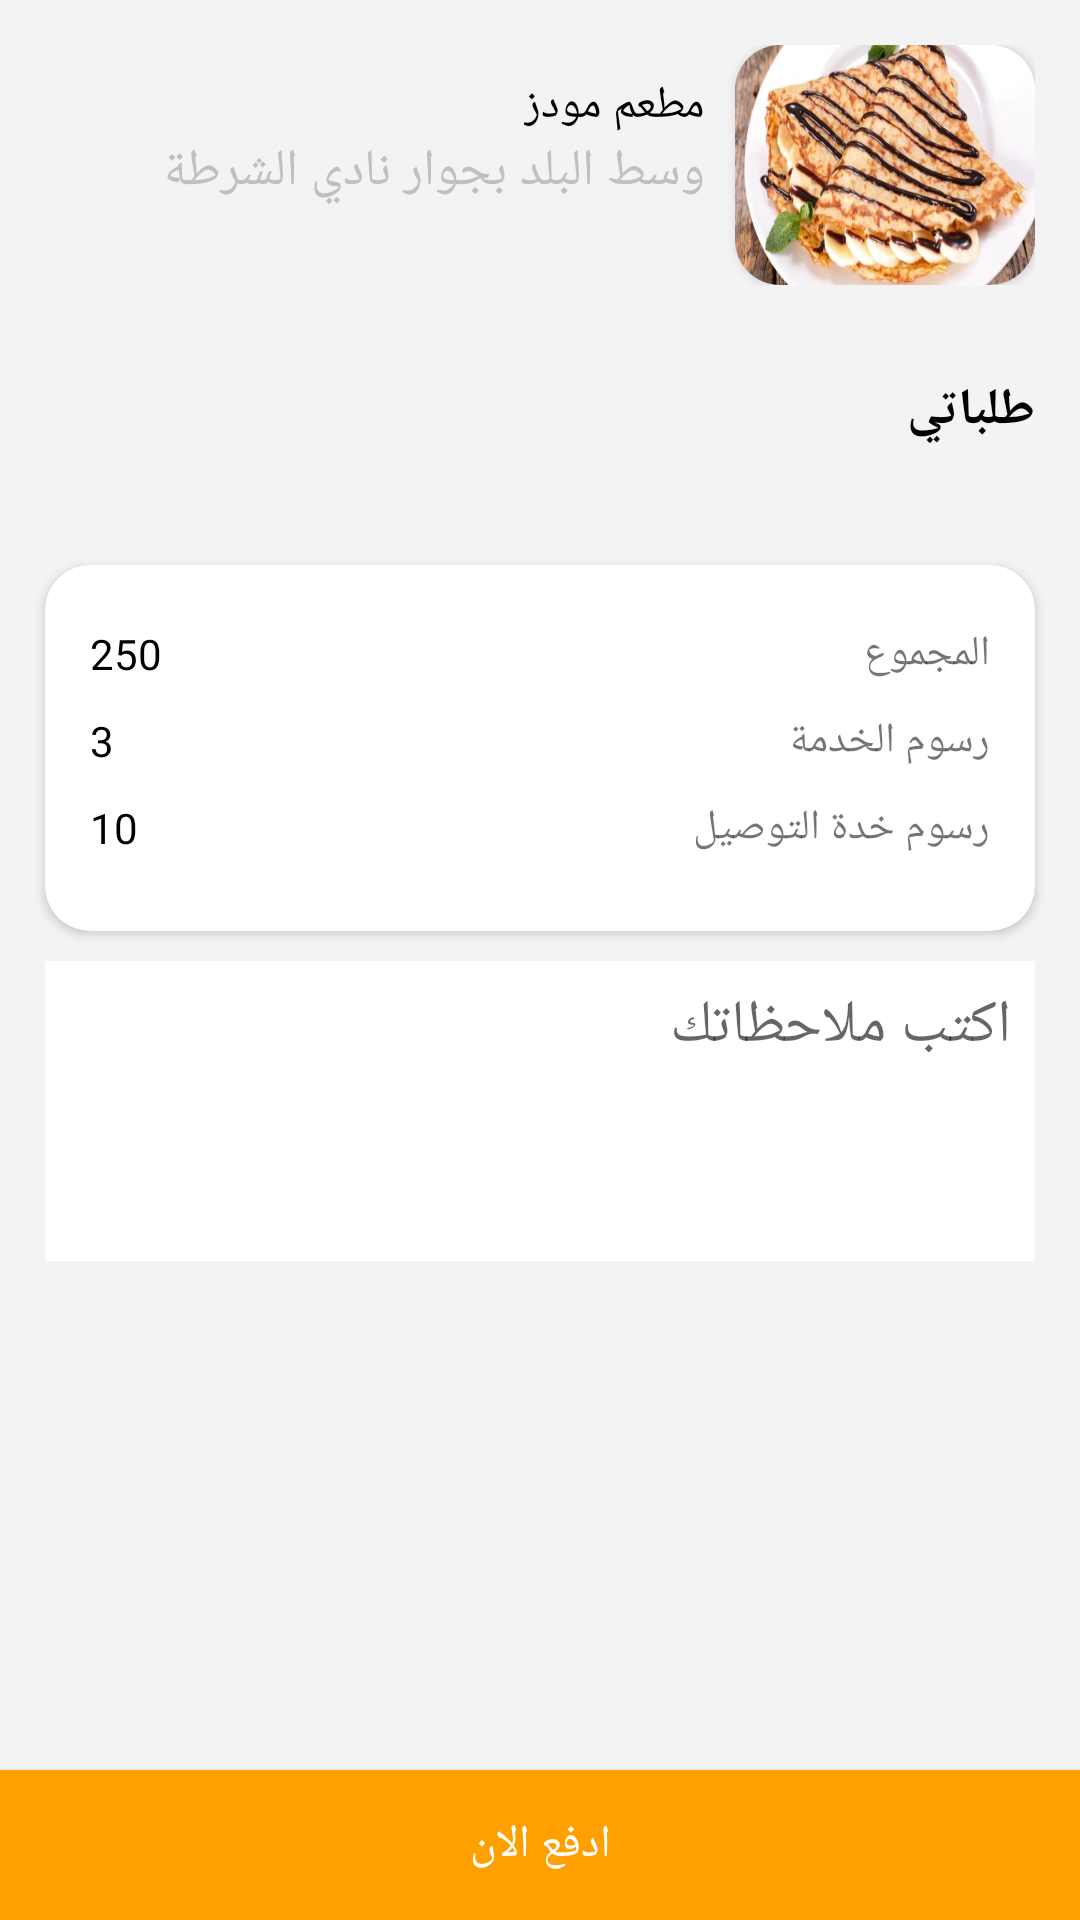

Screen size 1080×1920. Icon name, then its box in pixels as [x1, y1, x2, y2]:
crepe: [735, 45, 1035, 285]
